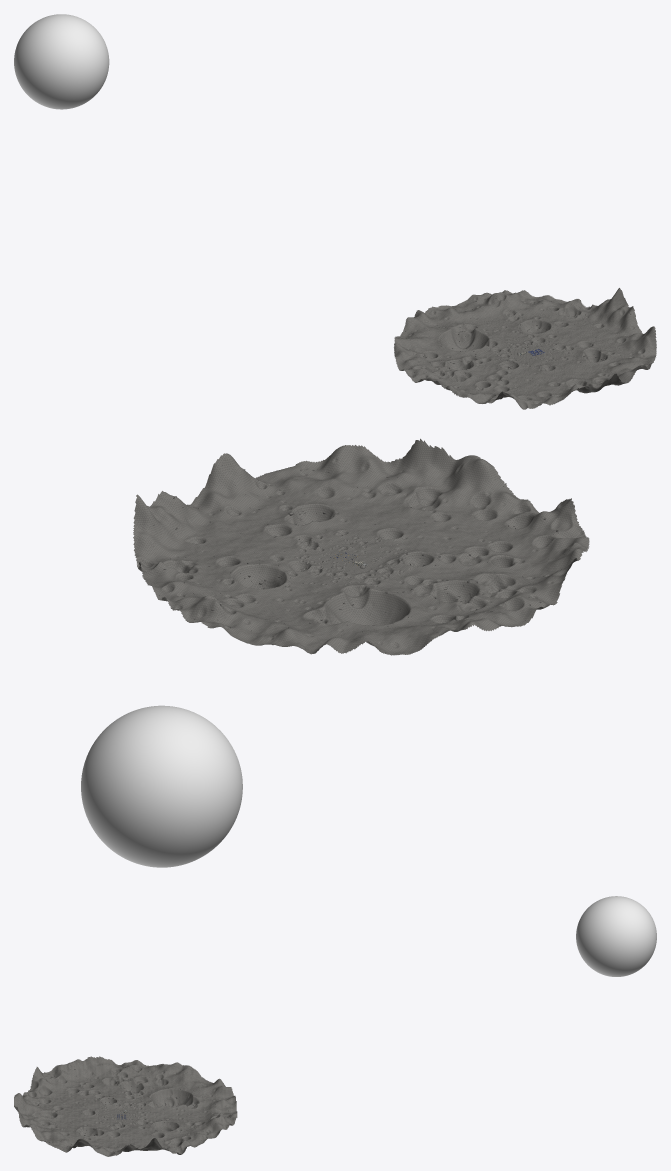
File: BaseLunar.fbx
3 views of the same model, one above another, from view 1: azimuth 30°, elevation 25°; view 2: azimuth 150°, elevation 25°; view 3: azimuth 270°, elevation 25° (orthographic). The views are drawn at different scales.
Parts seen in each view (by area): view 1: Terreno_Lua, Terra_Atmosfera; view 2: Terreno_Lua, Terra_Atmosfera; view 3: Terreno_Lua, Terra_Atmosfera.
Part boxes in pixels (x1,y1,x2,y2): Terreno_Lua: (394, 288, 656, 409); Terra_Atmosfera: (14, 14, 109, 109); Terreno_Lua: (133, 438, 589, 655); Terra_Atmosfera: (81, 705, 242, 867); Terreno_Lua: (14, 1056, 237, 1156); Terra_Atmosfera: (576, 896, 656, 976).
Bounding box in the file's own units: 210394 × 110266 × 419186.
